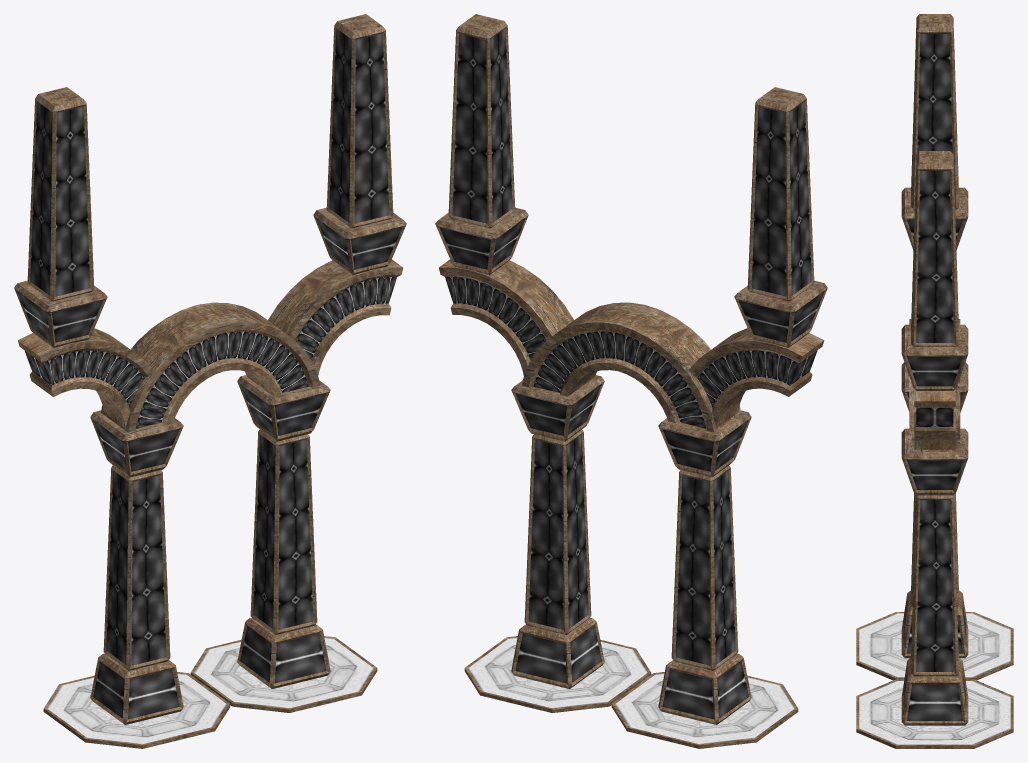
Rendered from column4.FBX.
The picture shows the model from 3 angles, left to right: view 1: azimuth 30°, elevation 25°; view 2: azimuth 150°, elevation 25°; view 3: azimuth 270°, elevation 25°; orthographic projection. The views are drawn at different scales.
Parts seen in each view (by area): view 1: Box025; view 2: Box025; view 3: Box025.
Boxes of the visible parts, x1,y1,x2,y2 form: Box025: (14, 14, 406, 748); Box025: (435, 14, 827, 748); Box025: (856, 14, 1013, 748).
Size of the model in its own units: 264 by 439 by 105.
